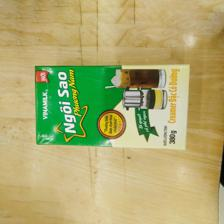NSPN_Hop: (33, 64, 188, 151)
